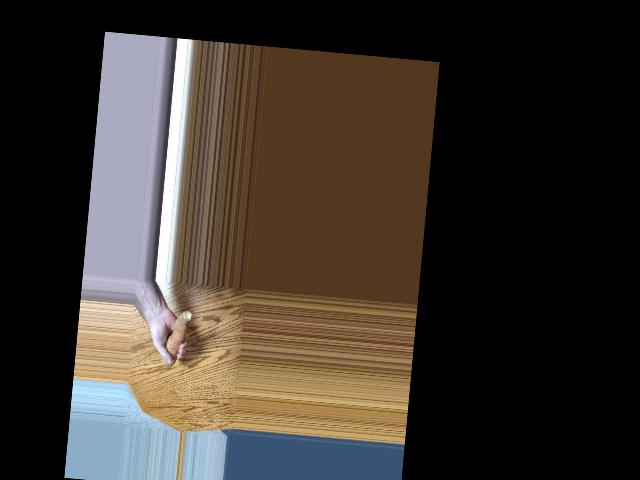sweet_potato: (162, 305, 191, 371)
